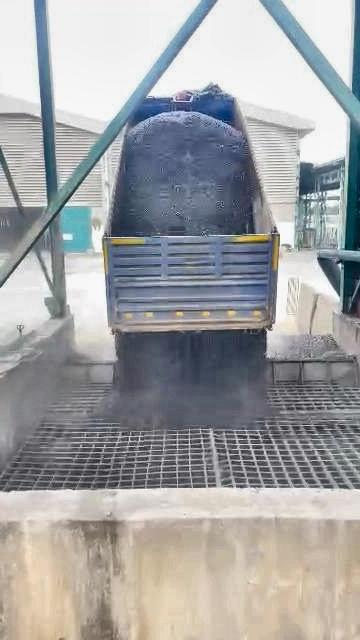gravel: (111, 111, 254, 235), (112, 331, 270, 428), (268, 333, 347, 360)
